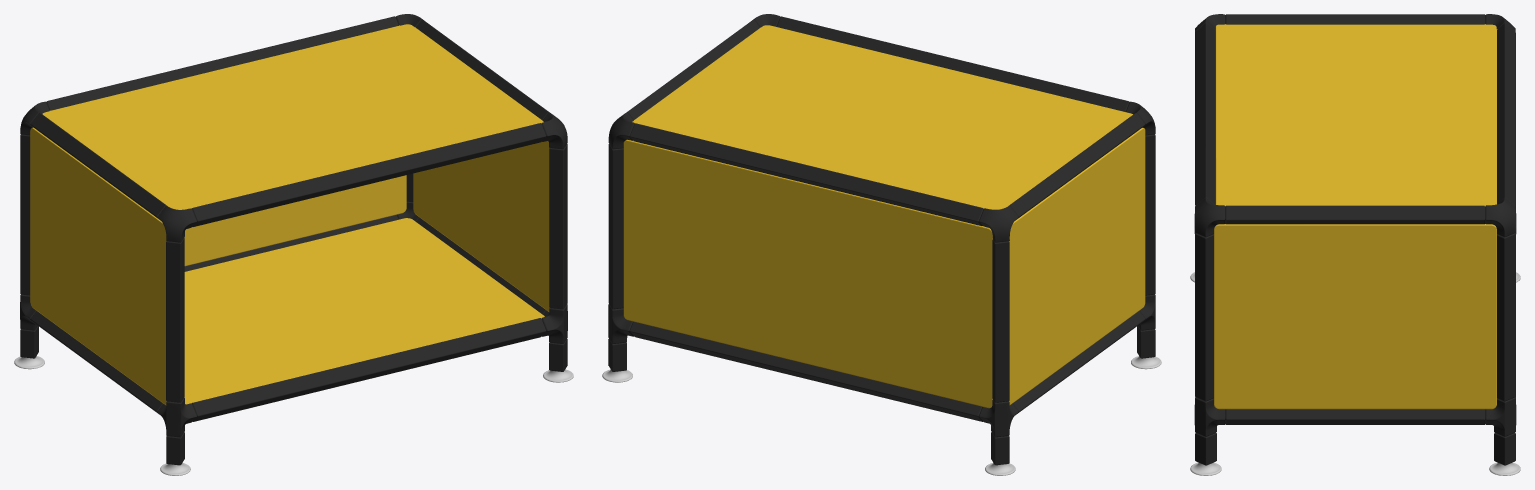
The picture shows the model from 3 angles, left to right: view 1: azimuth 30°, elevation 25°; view 2: azimuth 150°, elevation 25°; view 3: azimuth 270°, elevation 25°; orthographic projection. The views are drawn at different scales.
Visible parts, largest first — view 1: 523x329x229; view 2: 523x329x229; view 3: 523x329x229.
Boxes of the visible parts, x1,y1,x2,y2 form: 523x329x229: (14,14,573,475); 523x329x229: (602,14,1161,475); 523x329x229: (1190,14,1520,475).
Bounding box in the file's own units: 0.6129 × 0.3684 × 0.4183.
